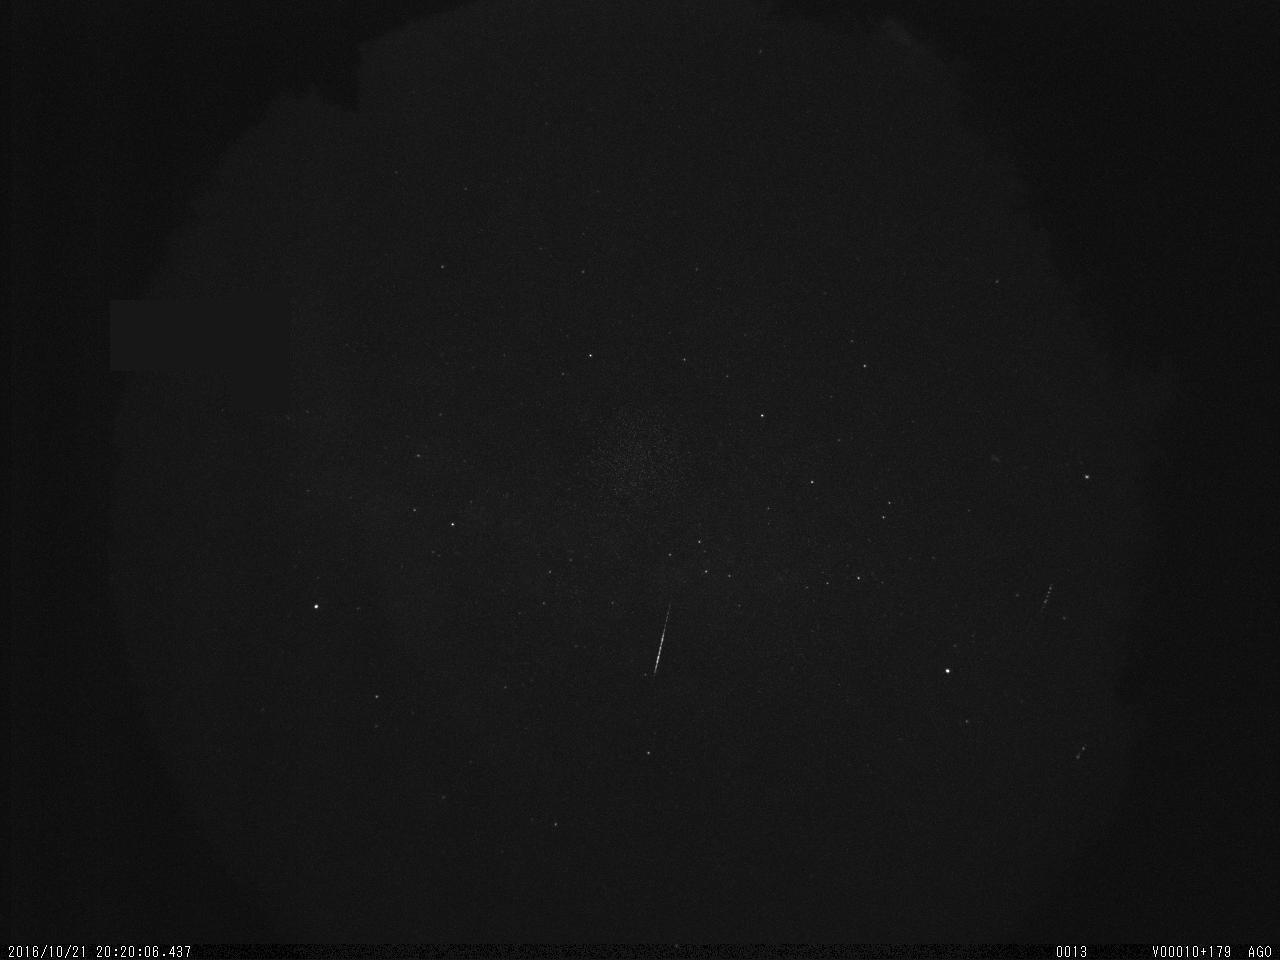Meteor: (652, 599, 669, 676)
